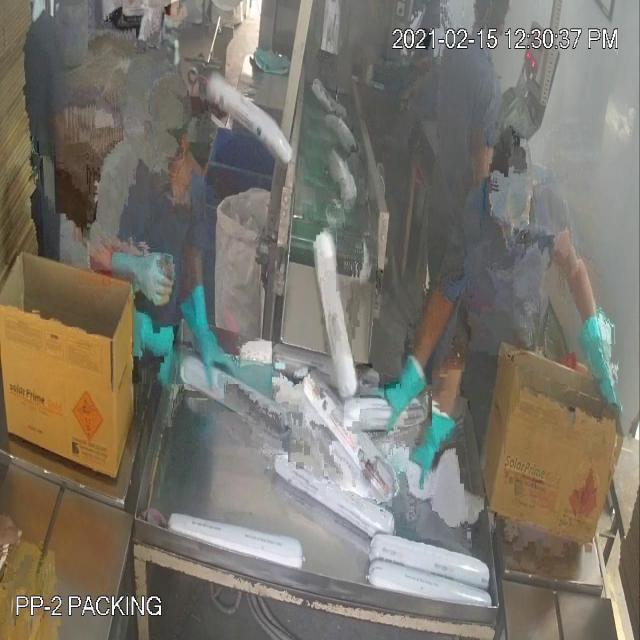Gloves: (45, 89, 598, 446)
